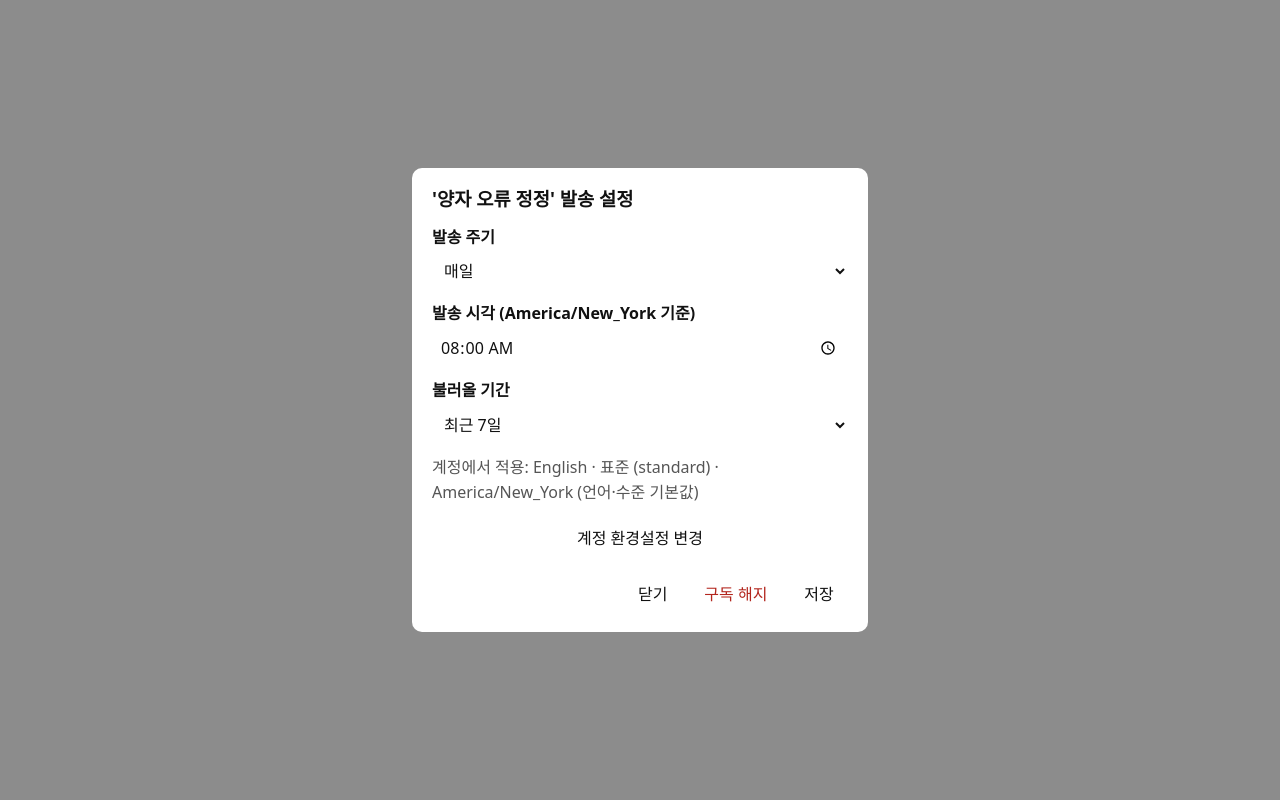
Test: dialog keyboard and unsubscribe confirmation › requires confirmation before unsubscribing and honours cancel
This screenshot has width=1280, height=800.
Click the button with test id "settings-unsubscribe".
click(736, 594)  # box x1=690 y1=572 x2=782 y2=616
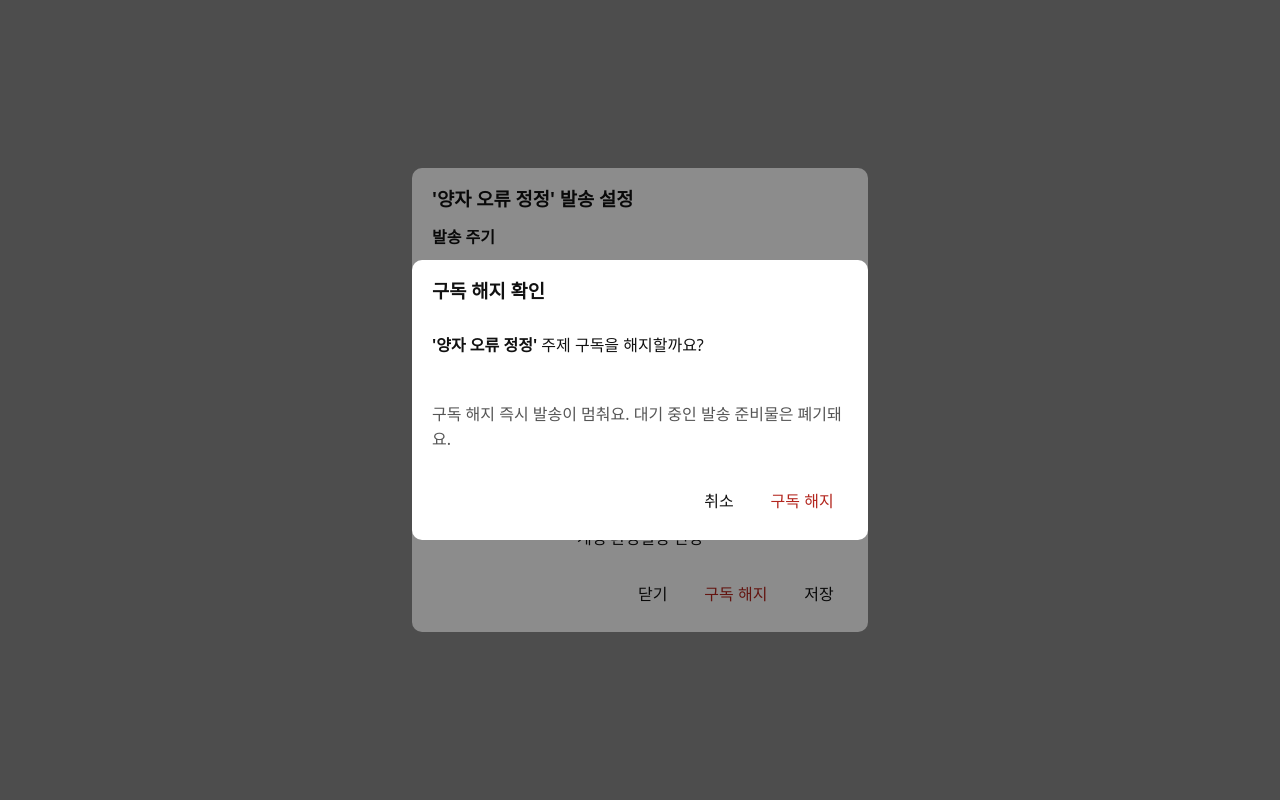
Now the dialog with test id "settings-confirm-dialog" shows "양자 오류 정정", box x1=436 y1=334 x2=533 y2=356
Click the button with test id "settings-confirm-dialog-cancel".
click(719, 502)  # box x1=690 y1=480 x2=748 y2=524
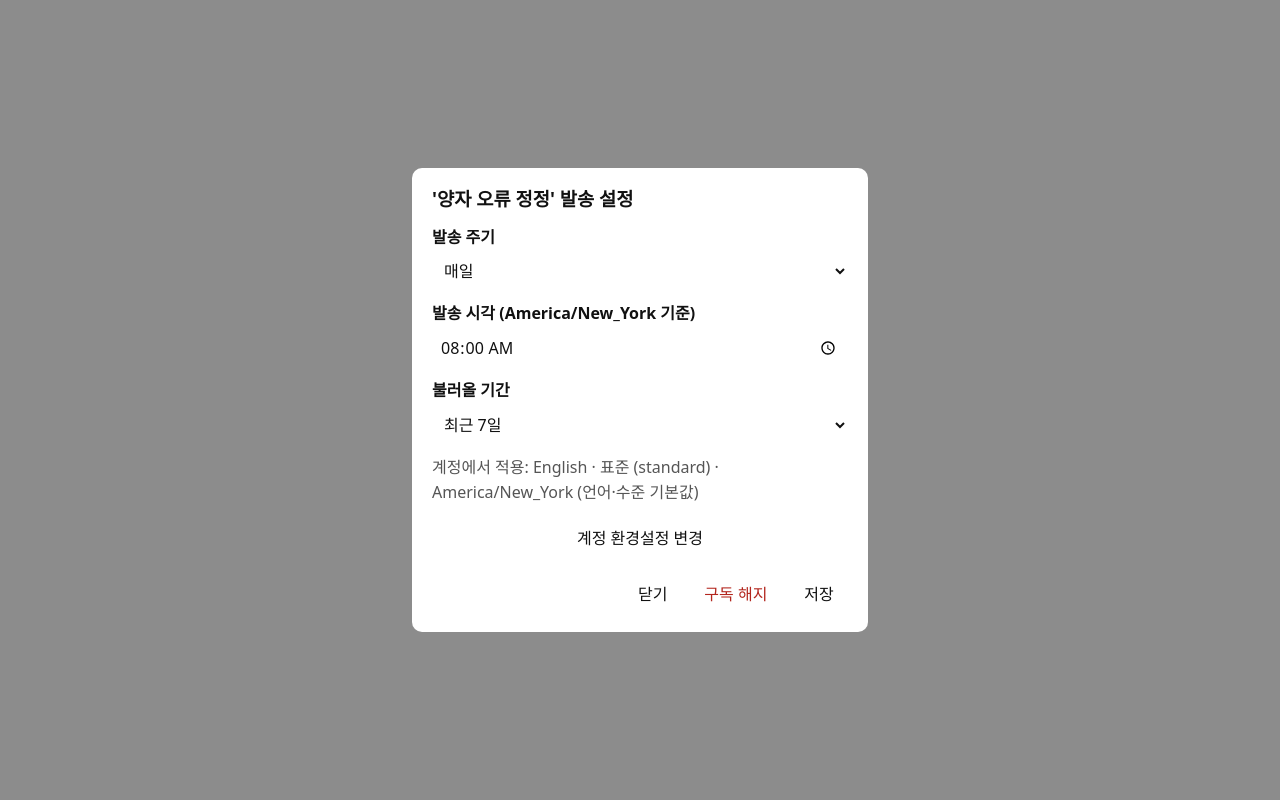
Click the button with test id "settings-unsubscribe".
click(736, 594)  # box x1=690 y1=572 x2=782 y2=616
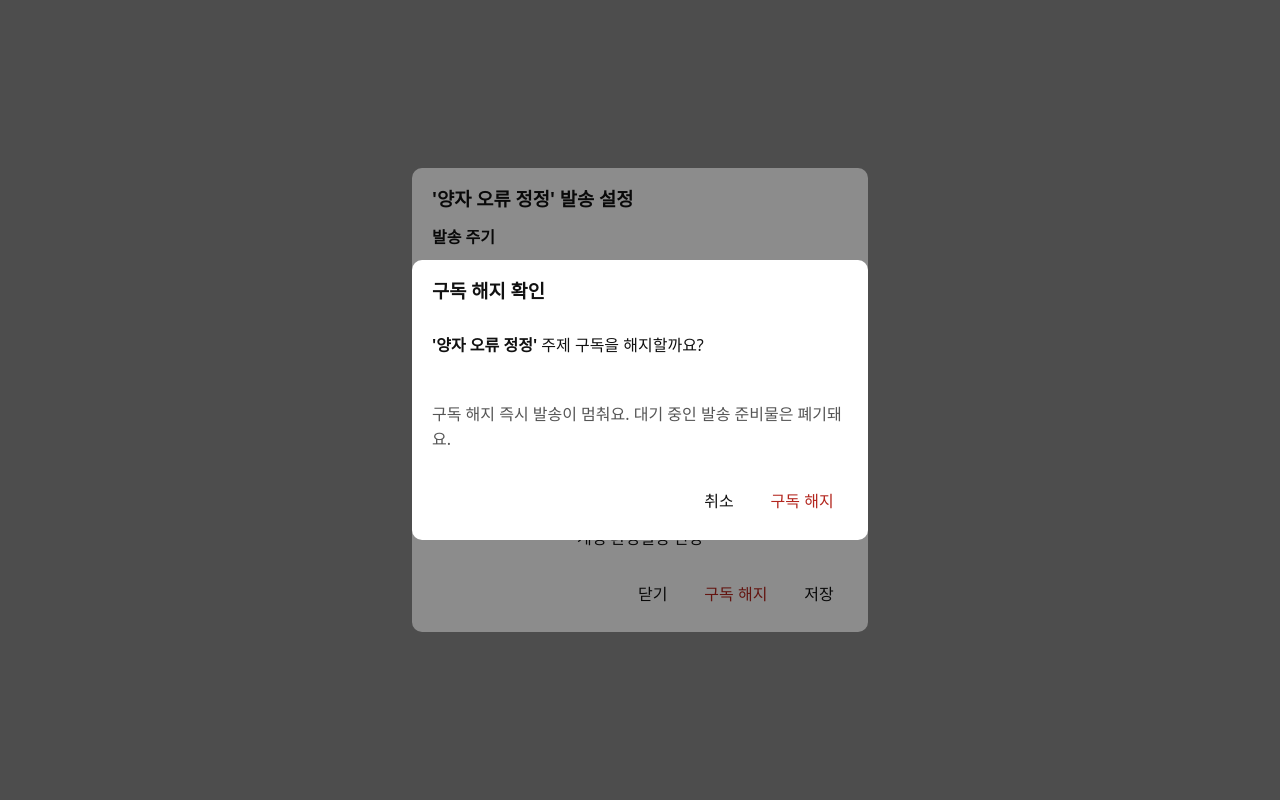
Click the button with test id "settings-confirm-dialog-confirm".
click(802, 502)  # box x1=756 y1=480 x2=848 y2=524
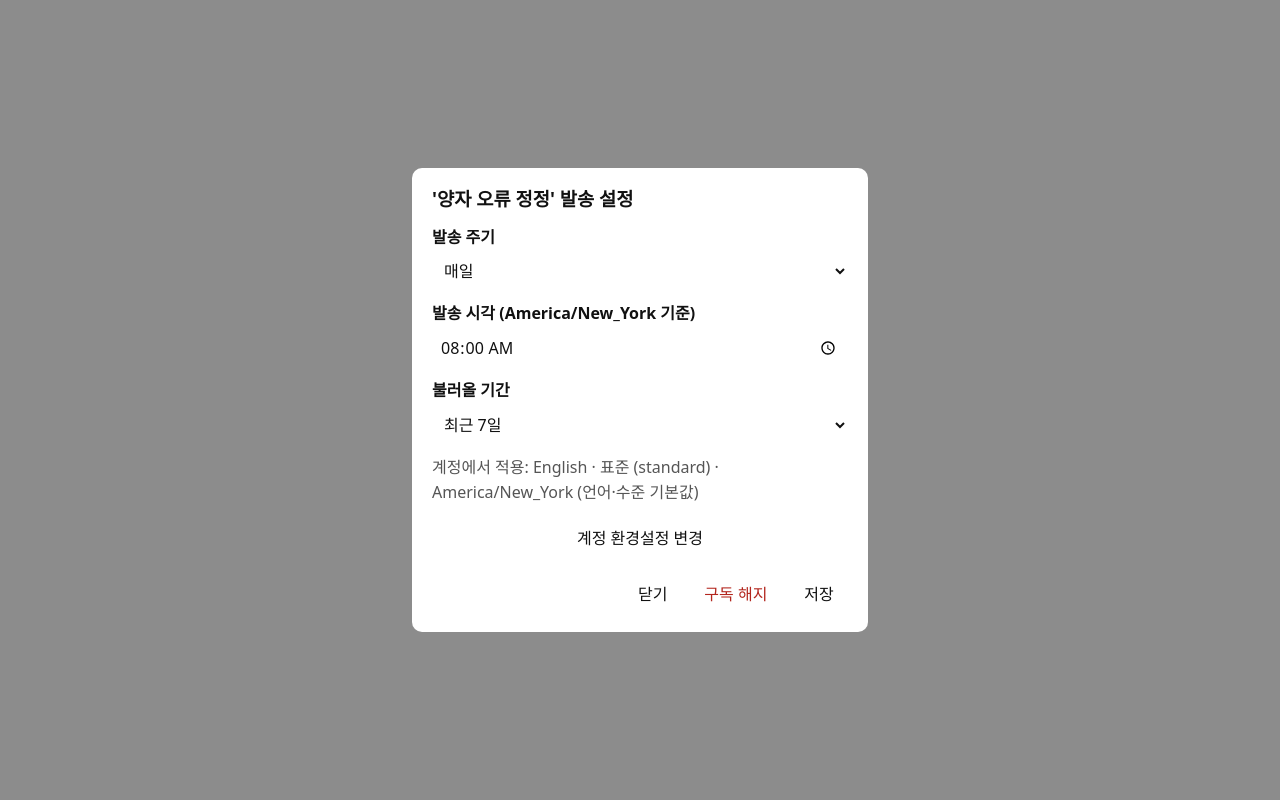
Now the dialog with test id "settings-confirm-dialog" is gone
